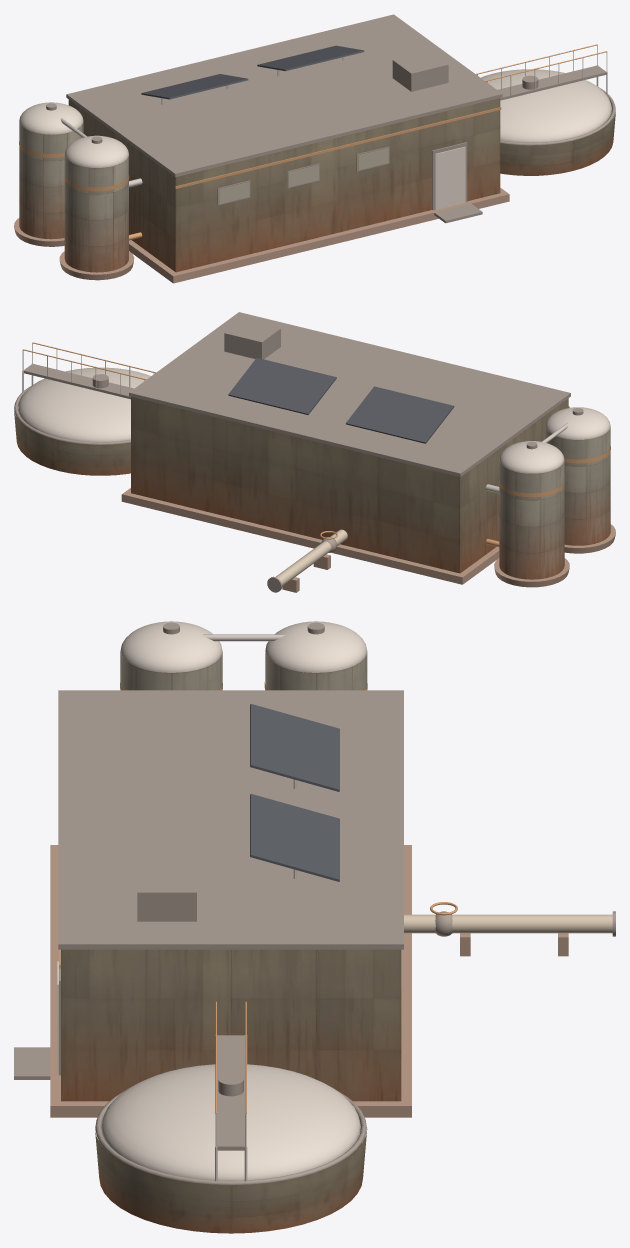
Rendered from E13_water_treatment.glb.
The picture shows the model from 3 angles, top to bottom: view 1: azimuth 30°, elevation 25°; view 2: azimuth 150°, elevation 25°; view 3: azimuth 270°, elevation 25°; orthographic projection. The views are drawn at different scales.
Visible parts, largest first — view 1: treatment_hall, roof_edge, filter_tank, foundation, window, object 5; view 2: treatment_hall, roof_edge, filter_tank, foundation, object 5; view 3: roof_edge, treatment_hall, foundation, filter_tank, object 5.
Part boxes in pixels (x1,y1,x2,y2): treatment_hall: [19, 44, 615, 272]; roof_edge: [46, 14, 615, 223]; filter_tank: [19, 121, 128, 272]; foundation: [14, 188, 509, 283]; window: [219, 148, 388, 204]; object 5: [60, 45, 607, 187]; treatment_hall: [14, 342, 610, 586]; roof_edge: [14, 312, 583, 592]; filter_tank: [499, 427, 610, 579]; foundation: [121, 488, 615, 592]; object 5: [22, 343, 568, 493]; roof_edge: [14, 622, 615, 1185]; treatment_hall: [57, 621, 612, 1233]; foundation: [50, 845, 568, 1117]; filter_tank: [120, 652, 367, 690]; object 5: [202, 634, 296, 1181].
Bounding box in the file's own units: 24.1 × 5.2 × 14.14.
Materials: 7 (2 with a texture image).
